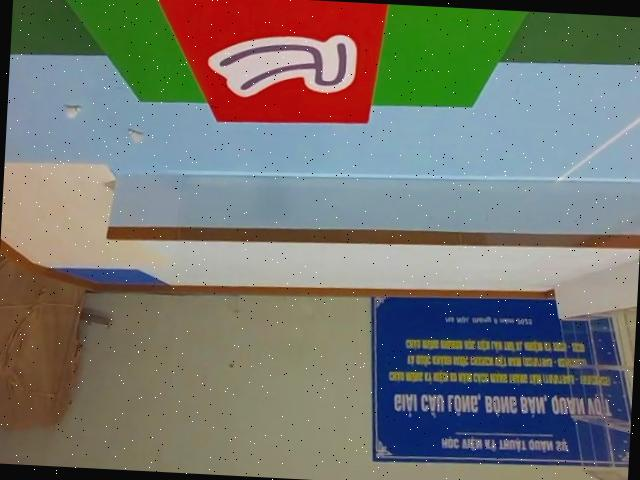R2 Fake: (140, 0, 393, 135)
